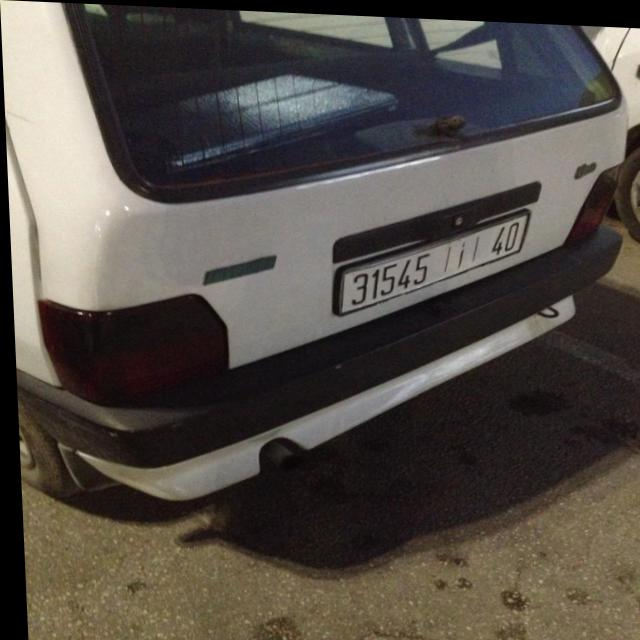License-Plate: (335, 208, 527, 311)
